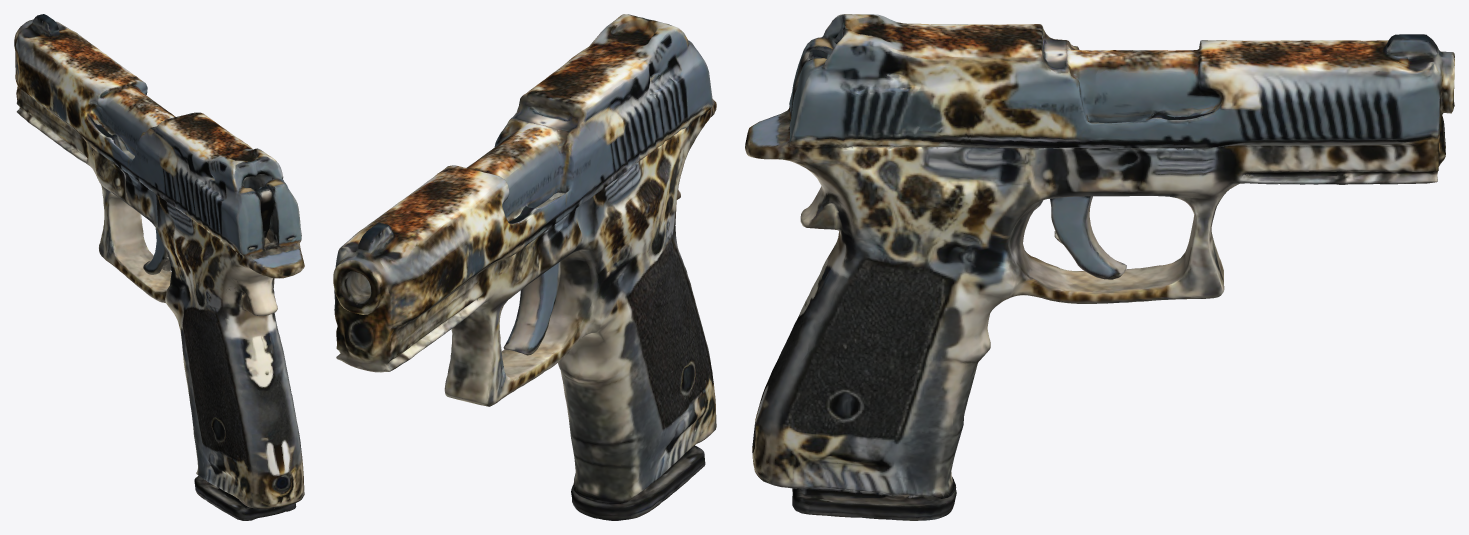
Rendered from Fossilpunk_Pistol.glb.
The picture shows the model from 3 angles, left to right: view 1: azimuth 30°, elevation 25°; view 2: azimuth 150°, elevation 25°; view 3: azimuth 270°, elevation 25°; orthographic projection. The views are drawn at different scales.
Bounding box in the file's own units: 0.2996 × 1.5 × 2.
1 material, 1 textured.
